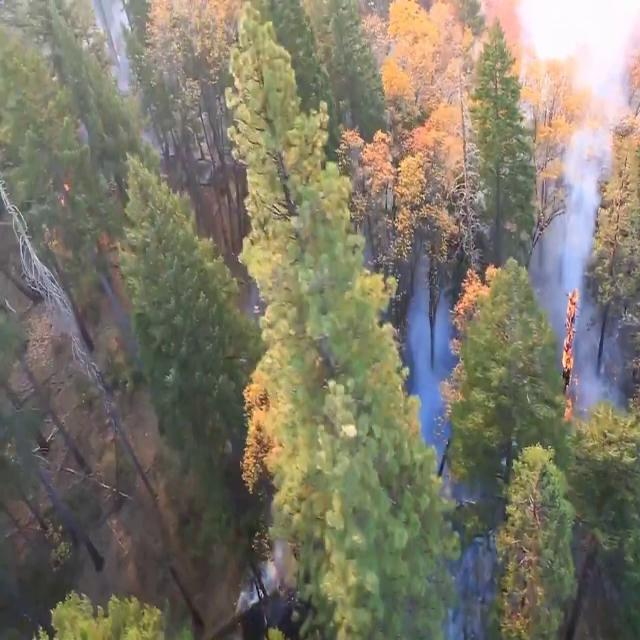Fire: (564, 288, 578, 398)
Smoke: (506, 0, 640, 134), (88, 0, 175, 152), (440, 488, 498, 640), (411, 280, 459, 454), (546, 113, 602, 258), (584, 301, 620, 417), (540, 224, 558, 342)
